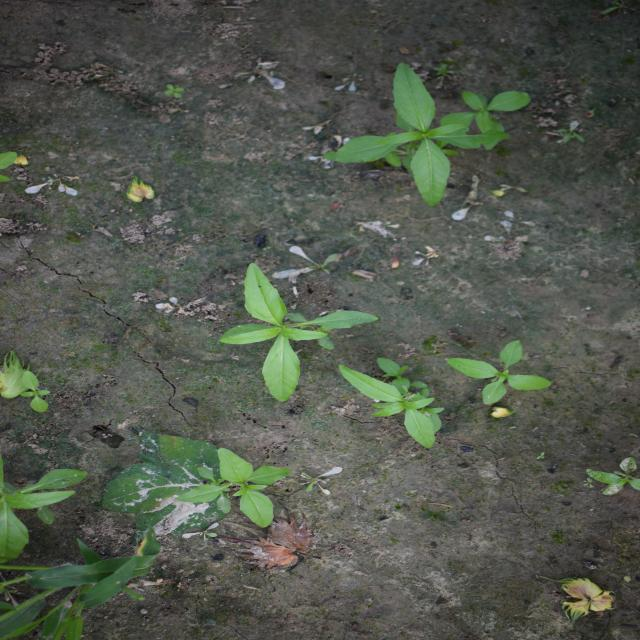Eclipta: (319, 61, 512, 208), (216, 262, 381, 403), (337, 356, 448, 450), (173, 446, 294, 530), (445, 340, 554, 405), (439, 90, 531, 140)
